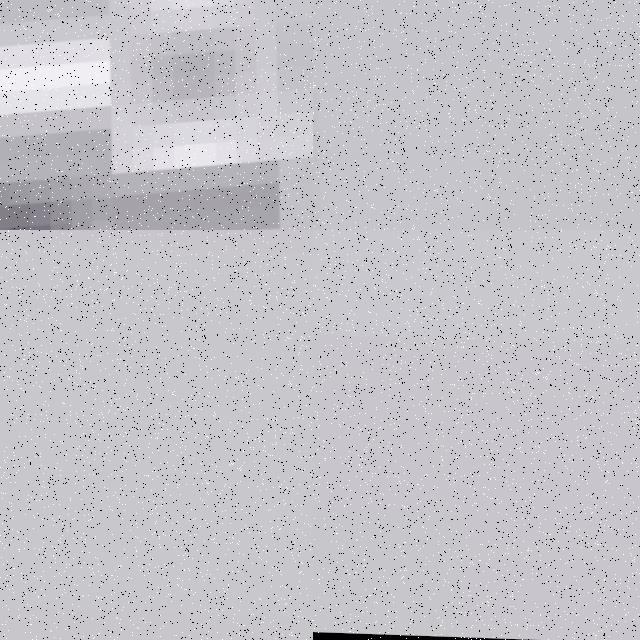drone: (313, 0, 640, 230), (0, 0, 313, 230)
